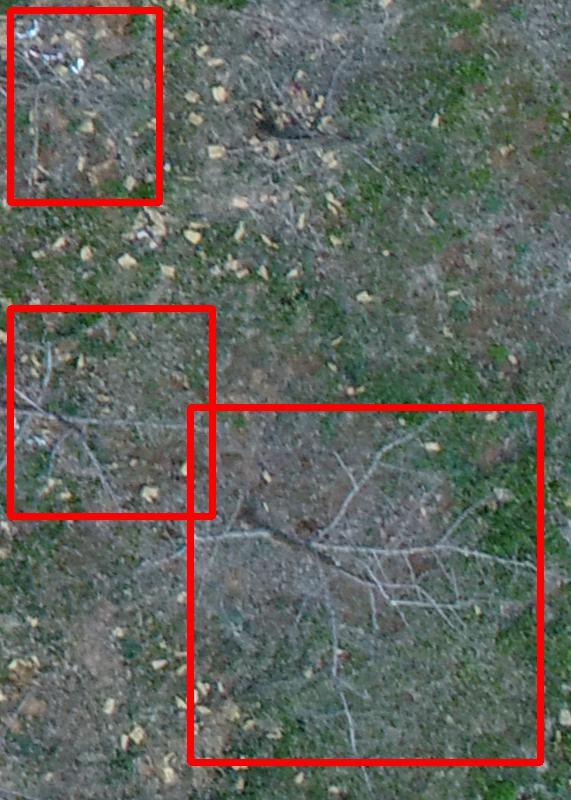apple: (190, 407, 540, 762), (10, 308, 212, 516), (10, 10, 159, 202)
